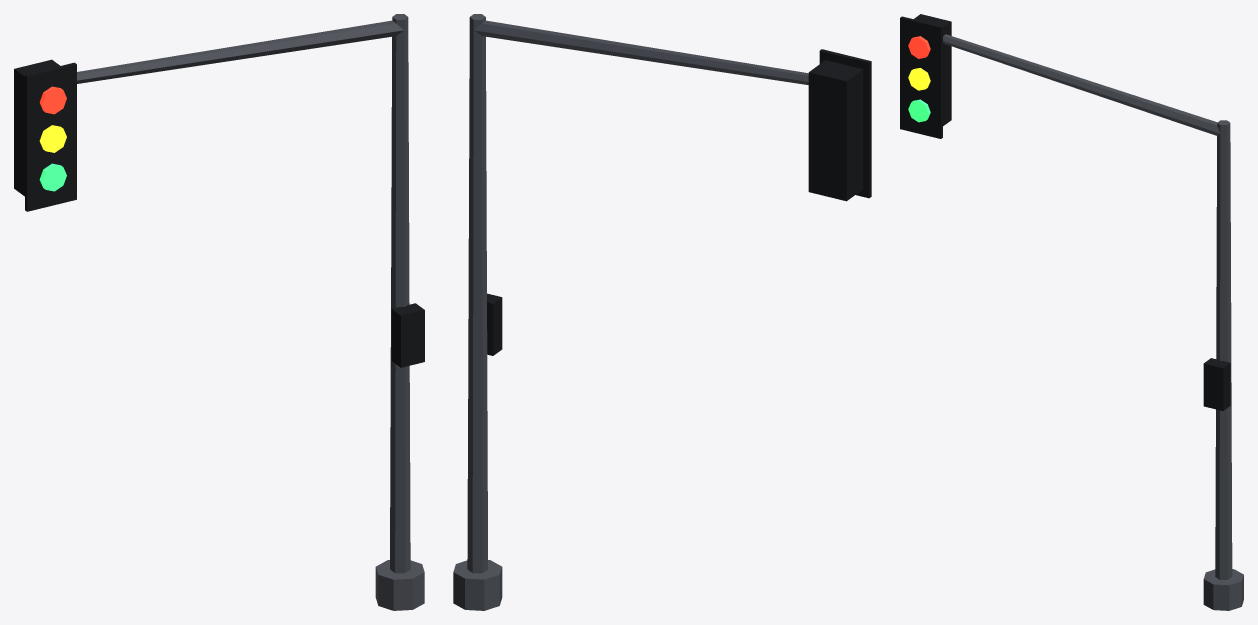
Rendered from traffic_light.glb.
3 views of the same model, side by side, from view 1: azimuth 30°, elevation 25°; view 2: azimuth 150°, elevation 25°; view 3: azimuth 330°, elevation 25° (orthographic). The views are drawn at different scales.
Parts seen in each view (by area): view 1: traffic_light, traffic_light_green, traffic_light_yellow, traffic_light_red; view 2: traffic_light; view 3: traffic_light.
Boxes of the visible parts, x1,y1,x2,y2 form: traffic_light: [14, 14, 424, 610]; traffic_light_green: [39, 163, 66, 191]; traffic_light_yellow: [39, 125, 66, 152]; traffic_light_red: [39, 86, 66, 114]; traffic_light: [453, 14, 871, 610]; traffic_light: [900, 14, 1243, 610].
Bounding box in the file's own units: 4.07 × 6 × 0.445.
